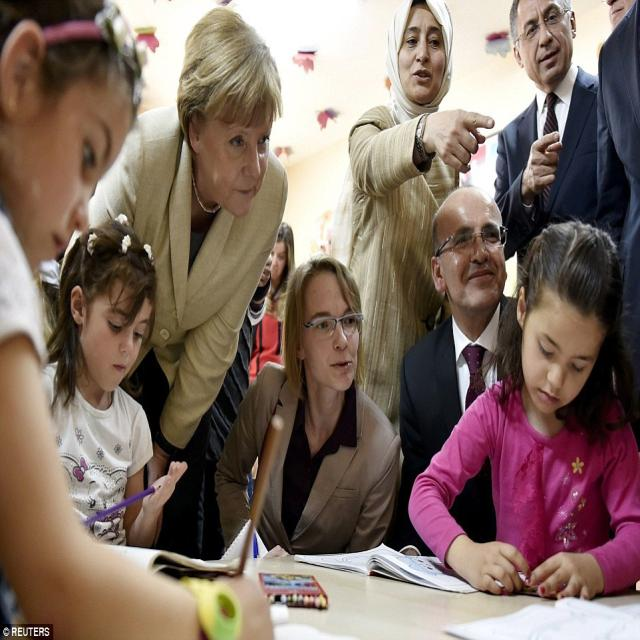body: (57, 5, 294, 560), (53, 3, 287, 562), (406, 217, 640, 599), (334, 0, 495, 434), (214, 252, 405, 562), (39, 216, 190, 550), (392, 181, 522, 560), (490, 0, 600, 286), (598, 0, 640, 367), (245, 228, 297, 388)
